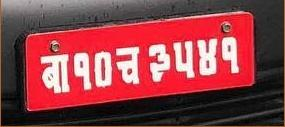0: (92, 49, 114, 90)
1: (70, 50, 93, 94), (219, 35, 242, 79)
3: (146, 41, 172, 86)
4: (195, 37, 219, 80)
5: (171, 38, 196, 83)
ba: (38, 50, 73, 97)
cha: (113, 45, 141, 88)
